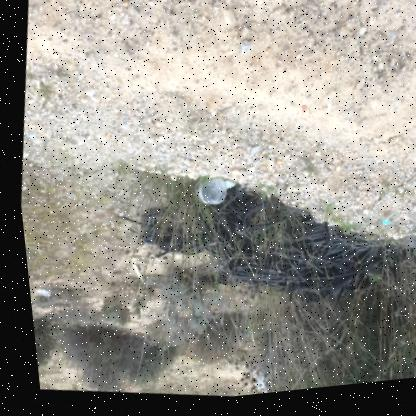Plastic: (189, 180, 221, 207)
Waste: (219, 183, 229, 192), (374, 226, 383, 231)
